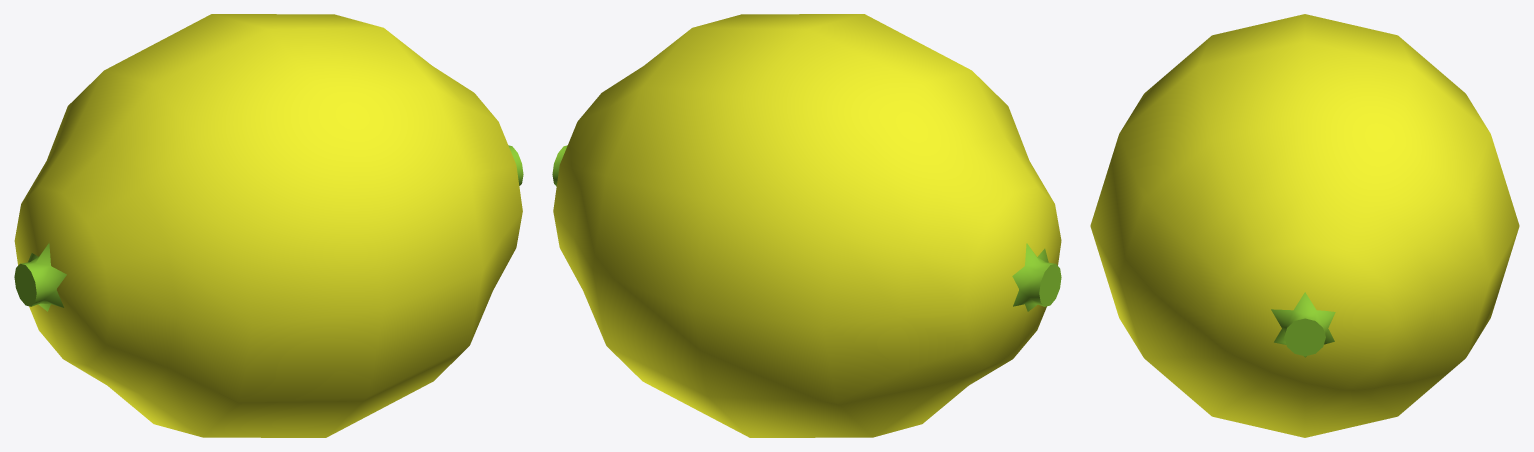
File: lemon.FBX
The picture shows the model from 3 angles, left to right: view 1: azimuth 30°, elevation 25°; view 2: azimuth 150°, elevation 25°; view 3: azimuth 270°, elevation 25°; orthographic projection. The views are drawn at different scales.
Visible parts, largest first — view 1: lemon; view 2: lemon; view 3: lemon.
Part boxes in pixels (bbox=[...]): lemon: bbox=[14, 14, 523, 437]; lemon: bbox=[552, 14, 1061, 437]; lemon: bbox=[1090, 14, 1519, 437].
Size of the model in its own units: 29.16 by 22.48 by 23.77.
